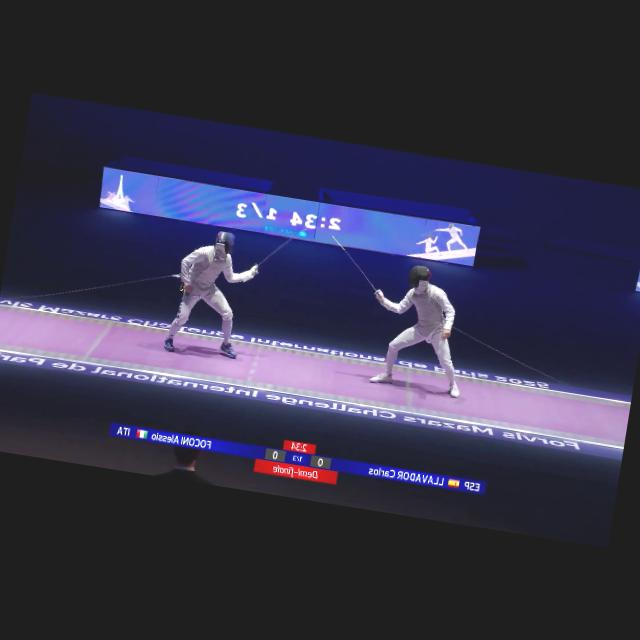blade: (320, 233, 391, 300), (249, 214, 315, 280)
